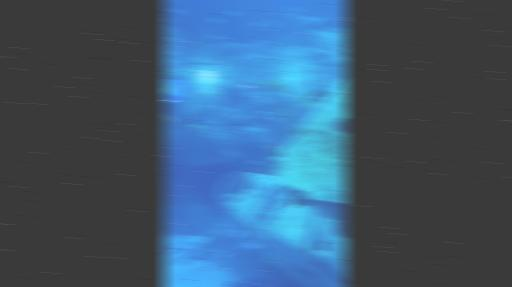Fish: (289, 188, 346, 237), (287, 6, 324, 29), (298, 89, 331, 107), (262, 79, 289, 93), (222, 194, 245, 203), (308, 90, 331, 99), (267, 145, 282, 157), (335, 119, 346, 133), (294, 123, 305, 136), (266, 15, 277, 28), (262, 80, 275, 89), (282, 105, 289, 121), (186, 124, 201, 131), (318, 239, 327, 250), (164, 114, 173, 123), (299, 96, 306, 107), (171, 8, 182, 14), (259, 111, 272, 116), (209, 18, 220, 23), (230, 162, 239, 167), (163, 18, 172, 23), (253, 22, 262, 27), (208, 35, 219, 39), (251, 160, 260, 164), (169, 37, 176, 41), (227, 12, 236, 15), (171, 0, 178, 2)
